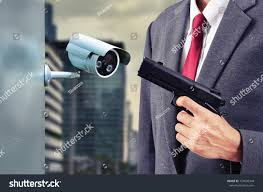gun: (137, 52, 230, 148)
